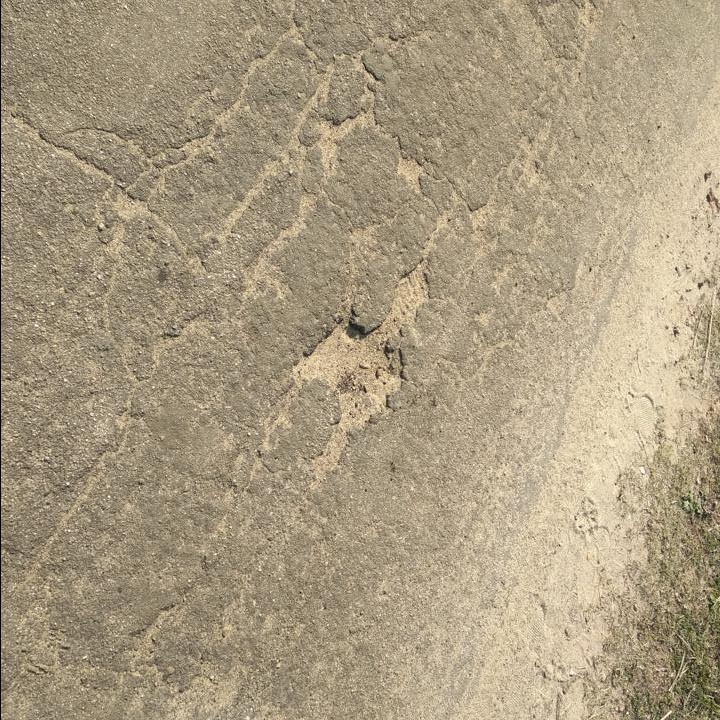pothole: (290, 258, 433, 475)
